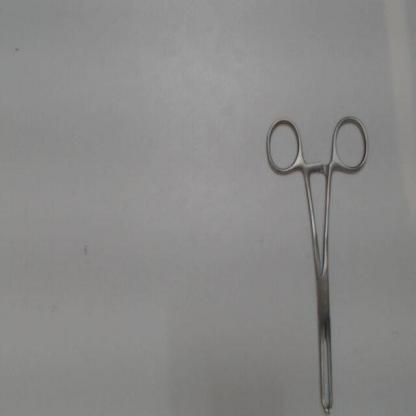Allis Tissue Forceps: (260, 108, 375, 415)
